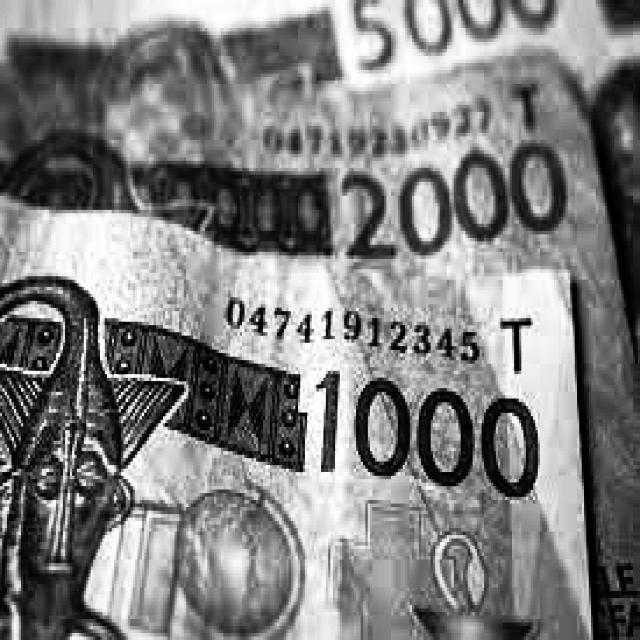niaar teemeer: (1, 195, 593, 639)
